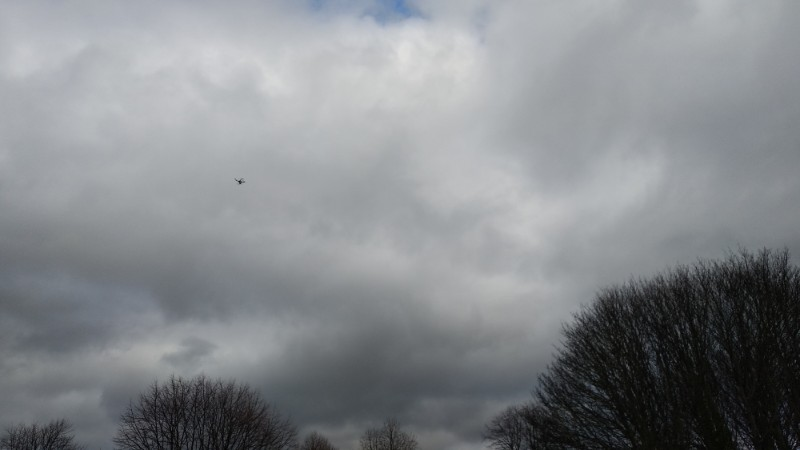drone: (234, 176, 246, 186)
